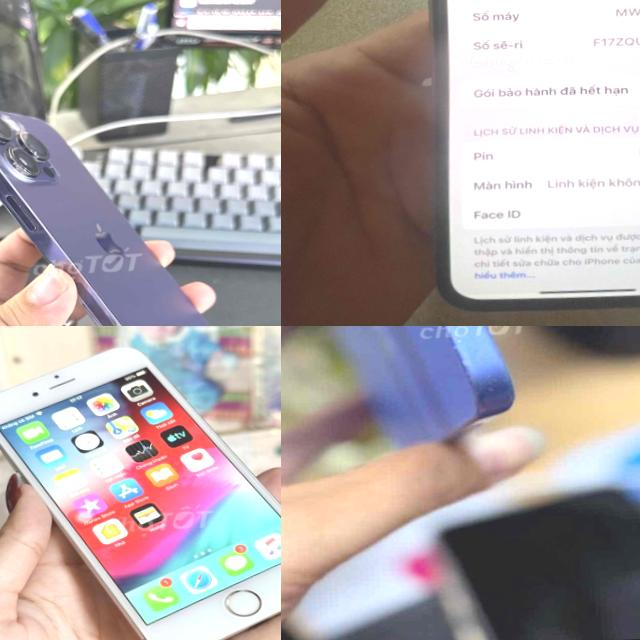scratch: (387, 326, 504, 406)
